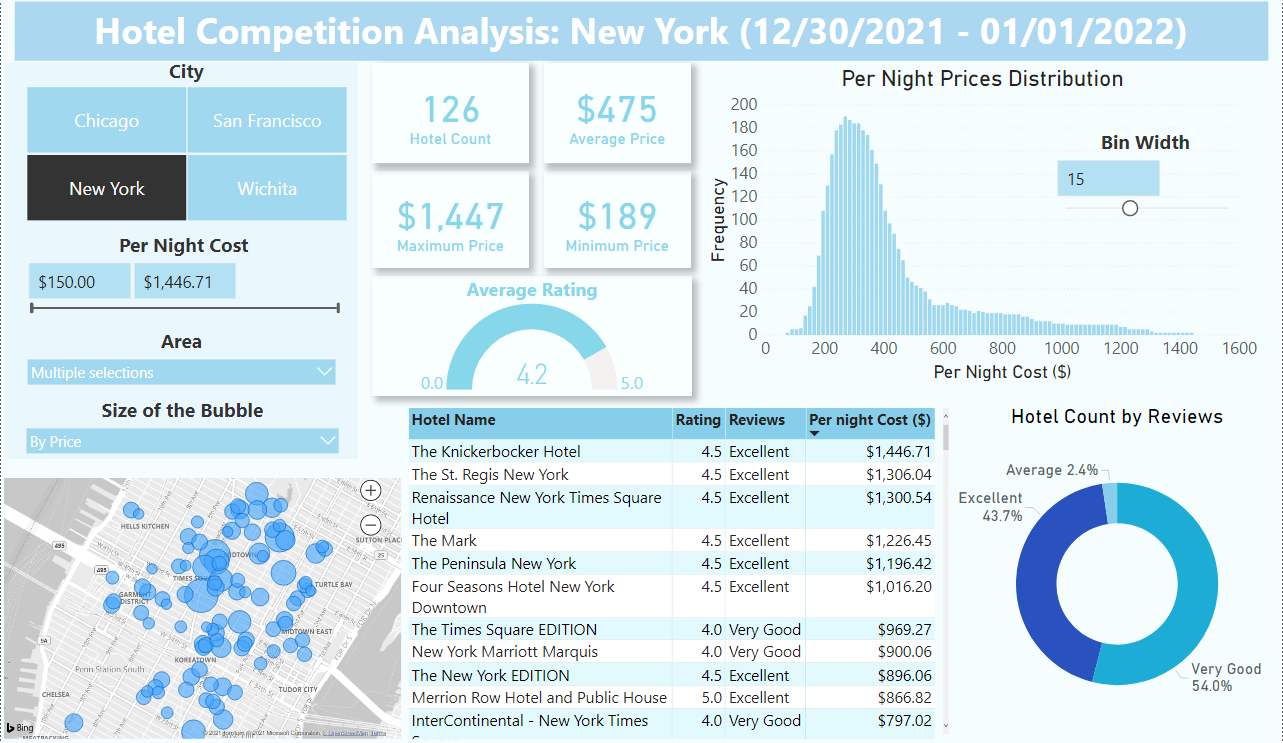

What the dashboard file says about the page in this screenshot:
{"tool":"powerbi","page":{"name":"City level summary","canvas":[2070,1200],"ordinal":2},"visuals":[{"type":"basicShape","box":[0,0,2070.7,101],"z":0},{"type":"card","fields":{"Values":["Hotel_DF.Title"]},"box":[30.3,0,2008.1,92.9],"z":1000},{"type":"card","fields":{"Values":["Hotel_DF.HotelCount"]},"box":[599.8,101.5,252.7,162.9],"z":2000},{"type":"card","fields":{"Values":["Hotel_DF.Lowest Price"]},"box":[876,276.3,238.5,155.8],"z":3000},{"type":"card","fields":{"Values":["Hotel_DF.Max Price"]},"box":[599.8,276.3,252.7,155.8],"z":4000},{"type":"card","fields":{"Values":["Hotel_DF.Average Price"]},"box":[876,101.5,238.5,162.9],"z":5000},{"type":"gauge","title":"Average Rating","fields":{"Y":["Avg(Hotel_DF.Rating)"]},"box":[599.7,446.5,516.6,192.6],"z":6000},{"type":"map","fields":{"Y":["Hotel_DF.lat"],"X":["Hotel_DF.lon"],"Size":["Metrics.Selection"]},"box":[0,768.3,652.3,431.2],"z":7000},{"type":"columnChart","title":"Per Night Prices Distribution","fields":{"Category":["my bins.bin from"],"Y":["my bins._histogram values"]},"box":[1136,105.1,901.8,516.6],"z":8000},{"type":"slicer","title":"Bin Width","fields":{"Values":["Histogram bins.Histogram bins"]},"box":[1694.9,208.1,309.1,155.6],"z":9000},{"type":"donutChart","title":"Hotel Count by Reviews","fields":{"Y":["Hotel_DF.HotelCount"],"Category":["Hotel_DF.Reviews"]},"box":[1537.4,652.5,533.3,545.5],"z":10000},{"type":"basicShape","box":[0,92.3,583.7,656.7],"z":11000},{"type":"slicer","title":"Per Night Cost","fields":{"Values":["Hotel_DF.PerNightCost"]},"box":[31.5,374.1,525.9,175.9],"z":12000},{"type":"slicer","title":"City","fields":{"Values":["Hotel_DF.Area"]},"box":[16.7,92.6,566.7,270.4],"z":13000},{"type":"slicer","title":"Area","fields":{"Values":["Hotel_DF.Location"]},"box":[31.5,529.6,518.5,109.3],"z":14000},{"type":"tableEx","fields":{"Values":["Hotel_DF.Name","Hotel_DF.Rating","Hotel_DF.Reviews","Avg(Hotel_DF.PerNightCost)"]},"box":[652.3,654.5,884.3,545],"z":15000},{"type":"slicer","title":"Size of the Bubble","fields":{"Values":["Metrics.Column1"]},"box":[30,639.5,525.8,128.8],"z":18000}]}

Visuals, with their boxes in screenshot pixels (x1, y1, x2, y2), scaled from the page's 2070x1200 canvas onto the 1283x743 screenshot:
basicShape: 0,0,1282,63
card - Hotel_DF.Title: 19,0,1263,58
card - Hotel_DF.HotelCount: 372,63,528,164
card - Hotel_DF.Lowest Price: 543,171,691,268
card - Hotel_DF.Max Price: 372,171,528,268
card - Hotel_DF.Average Price: 543,63,691,164
"Average Rating" gauge: 372,276,692,396
map - Hotel_DF.lat x Hotel_DF.lon: 0,476,404,742
"Per Night Prices Distribution" columnChart: 704,65,1263,385
"Bin Width" slicer: 1051,129,1242,225
"Hotel Count by Reviews" donutChart: 953,404,1282,742
basicShape: 0,57,362,464
"Per Night Cost" slicer: 20,232,345,341
"City" slicer: 10,57,362,225
"Area" slicer: 20,328,341,396
tableEx - Hotel_DF.Name x Hotel_DF.Rating: 404,405,952,742
"Size of the Bubble" slicer: 19,396,344,476
